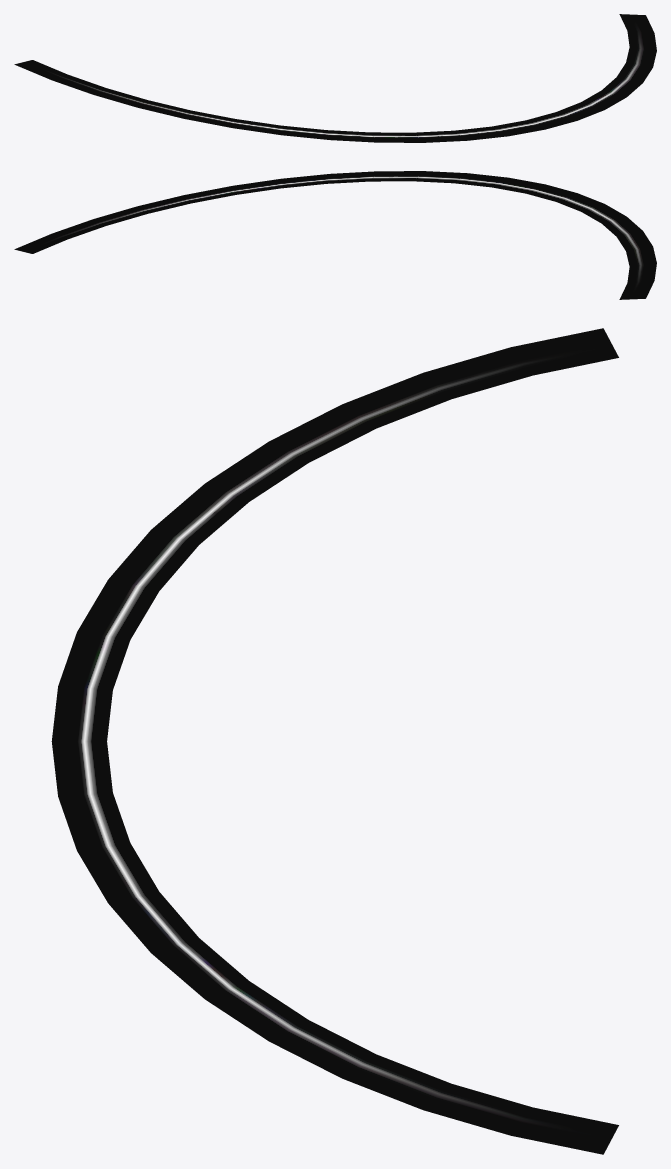
File: fashi_daoguang002.FBX
The picture shows the model from 3 angles, top to bottom: view 1: azimuth 30°, elevation 25°; view 2: azimuth 150°, elevation 25°; view 3: azimuth 270°, elevation 25°; orthographic projection. The views are drawn at different scales.
Visible parts, largest first — view 1: fashi_daoguang002; view 2: fashi_daoguang002; view 3: fashi_daoguang002.
Part boxes in pixels (box(x1,y1,x2,y2)): fashi_daoguang002: box(14, 14, 656, 142); fashi_daoguang002: box(14, 171, 656, 299); fashi_daoguang002: box(51, 328, 618, 1154).
Size of the model in its own units: 150 by 23.86 by 58.48.
1 material, 1 textured.
